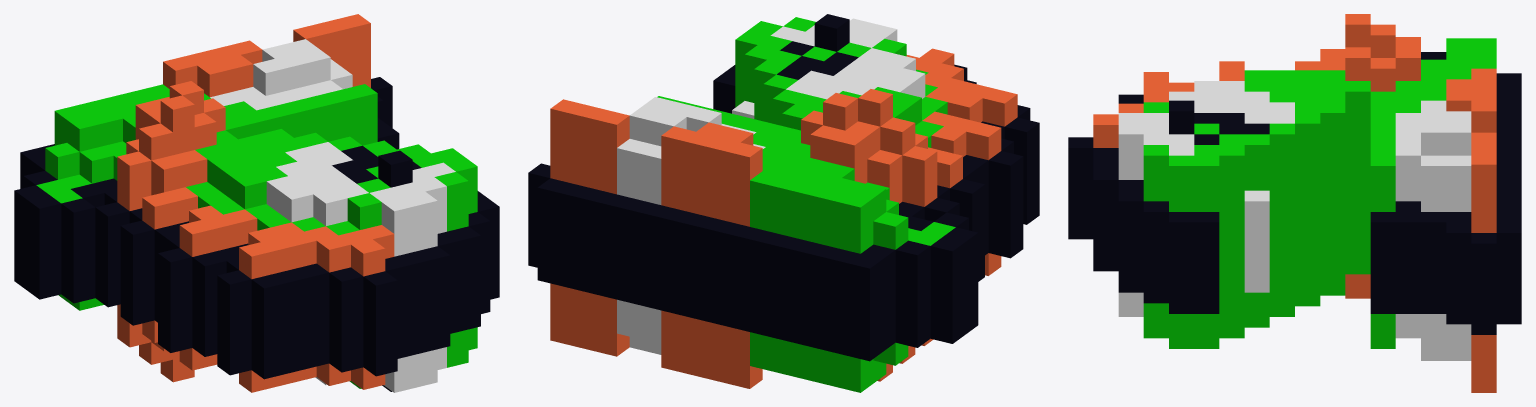
Rendered from dino-walk3.obj.
The picture shows the model from 3 angles, left to right: view 1: azimuth 30°, elevation 25°; view 2: azimuth 150°, elevation 25°; view 3: azimuth 270°, elevation 25°; orthographic projection. The views are drawn at different scales.
Size of the model in its own units: 1.8 by 1.2 by 1.8.
Materials: 1 (1 with a texture image).
